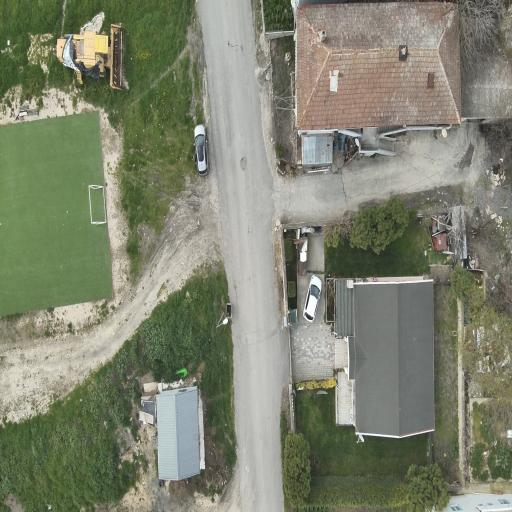car: (303, 275, 321, 322), (194, 125, 208, 175)
harvester: (57, 25, 124, 89)
